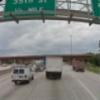cars: (11, 66, 34, 84)
